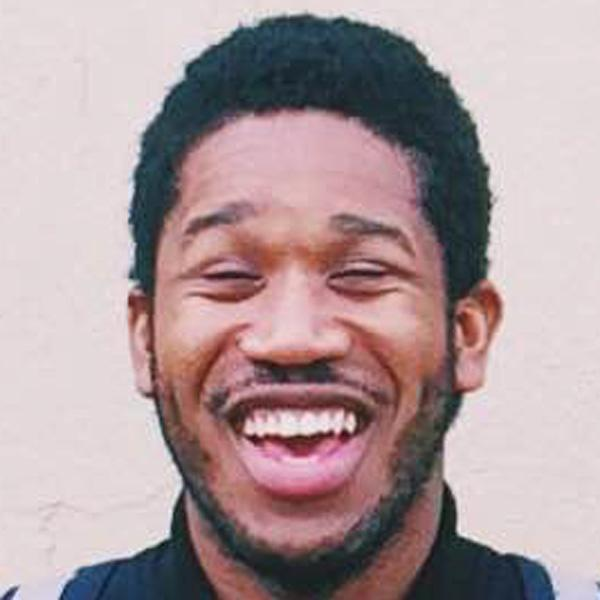Eyes: (185, 244, 267, 302), (319, 242, 402, 298)
